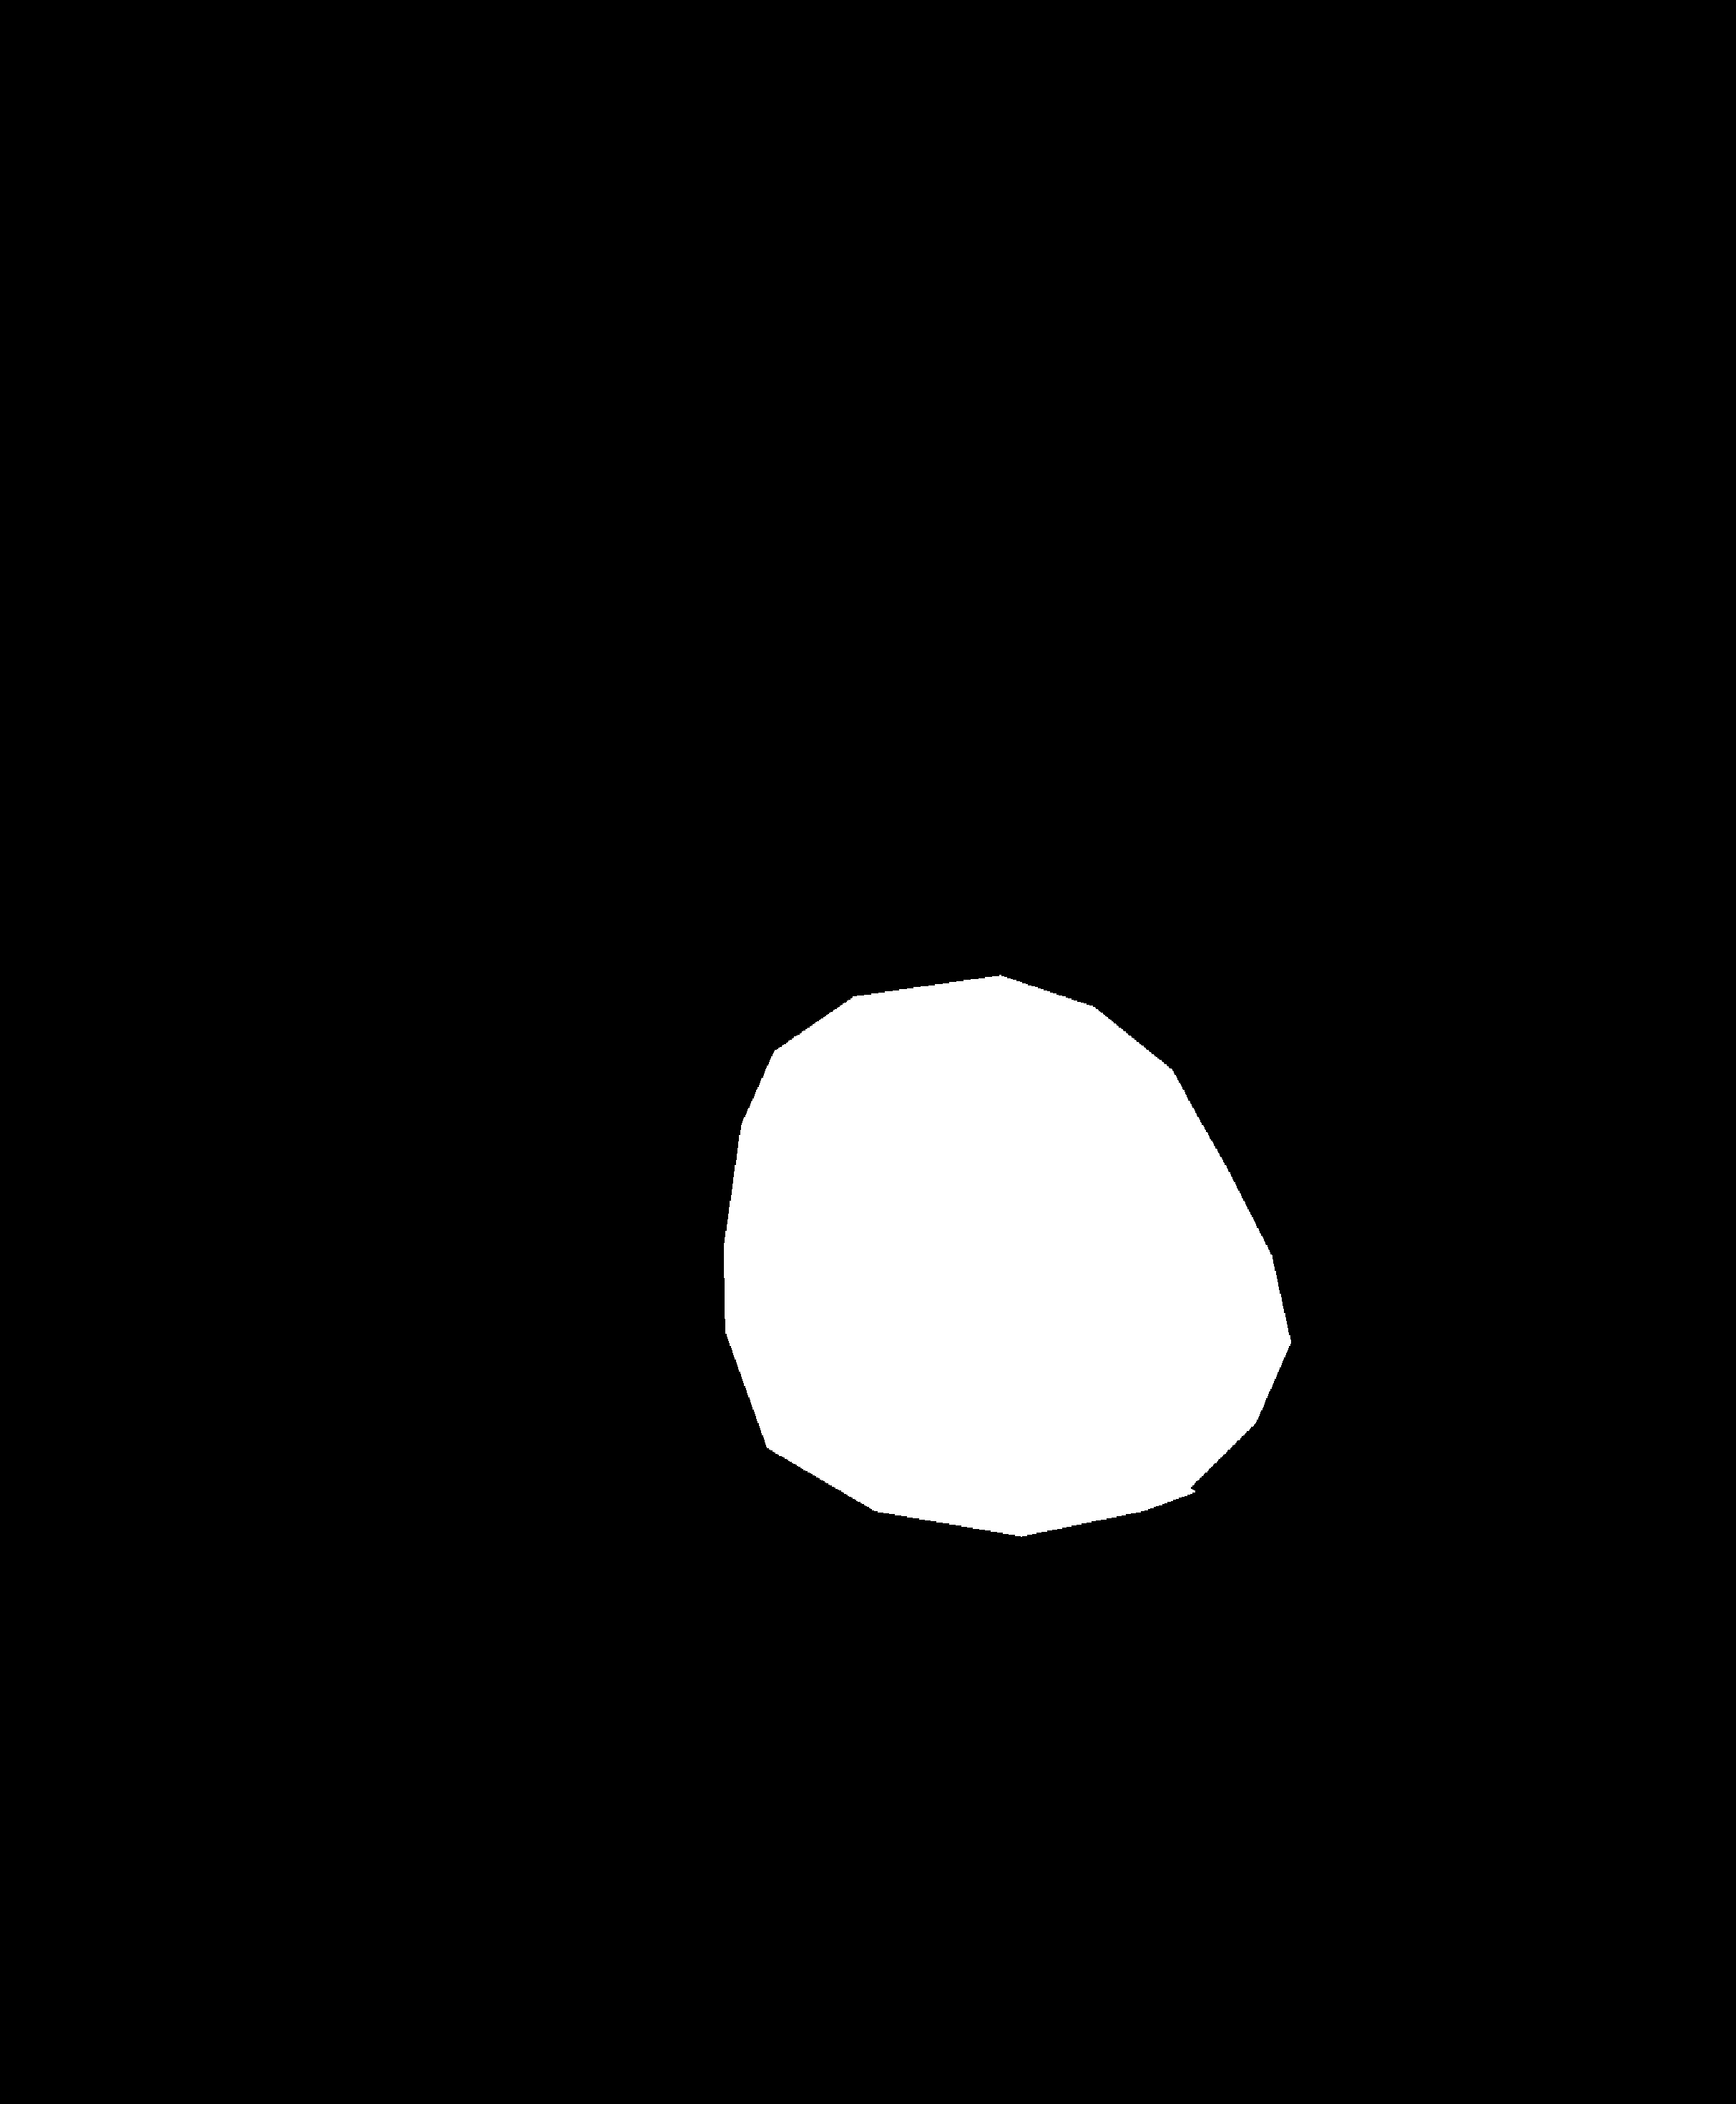heart: (722, 973, 1271, 1485)
left_lung: (224, 204, 862, 1557)
right_lung: (984, 322, 1425, 1450)
